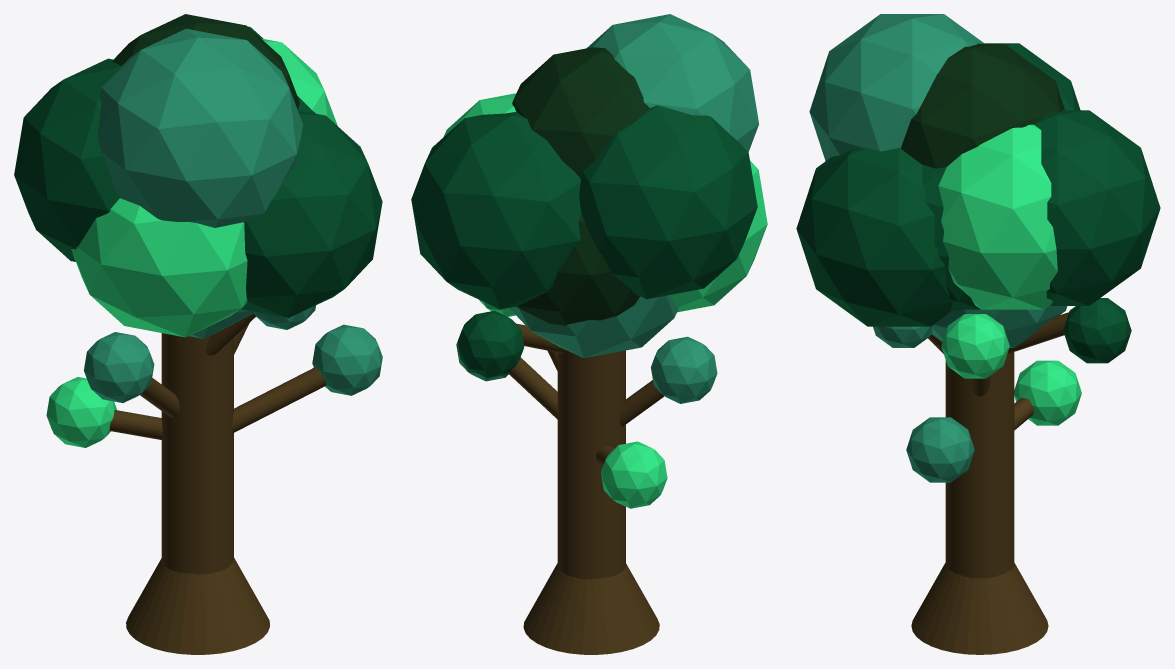
Rendered from Tree1temp.fbx.
3 renders of one model, left to right at view 1: azimuth 30°, elevation 25°; view 2: azimuth 150°, elevation 25°; view 3: azimuth 270°, elevation 25°, orthographic. The views are drawn at different scales.
Parts seen in each view (by area): view 1: Icosphere.015, Icosphere.011, Icosphere.007, Surface, Icosphere.010, Cone, Icosphere.001, Icosphere.003, Icosphere, Icosphere.012, Surface.006, Icosphere.013 (+5 smaller); view 2: Icosphere.010, Icosphere.014, Surface, Icosphere.015, Icosphere.012, Cone, Icosphere.008, Icosphere.006, Icosphere.001, Icosphere, Icosphere.004, Icosphere.007 (+4 smaller); view 3: Icosphere.011, Icosphere.014, Icosphere.013, Icosphere.015, Surface, Icosphere.012, Cone, Icosphere.003, Icosphere.005, Icosphere.004, Icosphere, Icosphere.006 (+4 smaller).
Boxes of the visible parts, x1,y1,x2,y2 form: Icosphere.015: [97, 28, 303, 227]; Icosphere.011: [241, 110, 382, 317]; Icosphere.007: [71, 198, 247, 337]; Surface: [161, 333, 233, 574]; Icosphere.010: [14, 58, 121, 261]; Cone: [126, 558, 269, 654]; Icosphere.001: [84, 332, 154, 402]; Icosphere.003: [312, 324, 382, 395]; Icosphere: [46, 377, 116, 447]; Icosphere.012: [112, 14, 299, 109]; Surface.006: [232, 367, 325, 432]; Icosphere.013: [261, 38, 337, 125]; Icosphere.010: [579, 105, 757, 299]; Icosphere.014: [411, 112, 581, 309]; Surface: [557, 350, 625, 579]; Icosphere.015: [587, 14, 758, 152]; Icosphere.012: [512, 47, 649, 178]; Cone: [523, 563, 659, 654]; Icosphere.008: [516, 214, 639, 325]; Icosphere.006: [509, 295, 678, 358]; Icosphere.001: [651, 336, 717, 403]; Icosphere: [601, 441, 667, 508]; Icosphere.004: [457, 310, 524, 377]; Icosphere.007: [669, 161, 767, 312]; Icosphere.011: [796, 148, 952, 326]; Icosphere.014: [1034, 110, 1160, 305]; Icosphere.013: [938, 124, 1057, 309]; Icosphere.015: [809, 14, 984, 161]; Surface: [945, 352, 1014, 578]; Icosphere.012: [901, 43, 1064, 168]; Cone: [911, 563, 1048, 654]; Icosphere.003: [906, 417, 974, 482]; Icosphere.005: [941, 314, 1009, 378]; Icosphere.004: [1063, 298, 1131, 363]; Icosphere: [1014, 360, 1081, 425]; Icosphere.006: [931, 306, 1067, 347].
Bounding box in the file's own units: 1029 × 1901 × 1062.
